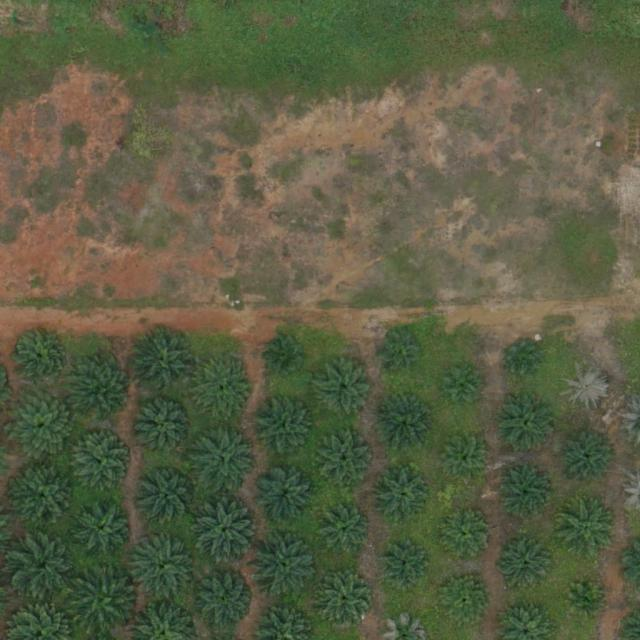Dead: (563, 364, 610, 412)
Healthy: (10, 462, 81, 533), (71, 565, 142, 636), (250, 531, 321, 602), (8, 392, 78, 463), (130, 327, 200, 398), (127, 533, 197, 604), (192, 496, 262, 567), (11, 534, 81, 604), (72, 362, 135, 425), (74, 499, 137, 562), (135, 399, 198, 462), (255, 464, 318, 527), (314, 358, 377, 421), (72, 430, 135, 492), (137, 465, 199, 528), (194, 360, 256, 423), (195, 426, 257, 489), (194, 569, 257, 631), (254, 396, 316, 459), (559, 427, 621, 490), (497, 394, 559, 456), (559, 499, 621, 561), (12, 329, 67, 384), (319, 435, 374, 490), (317, 506, 372, 561), (319, 575, 374, 630), (378, 399, 433, 454), (376, 470, 431, 525), (440, 511, 495, 566), (438, 575, 493, 630), (499, 539, 554, 594), (500, 467, 554, 522), (382, 544, 429, 591)
Small: (442, 439, 489, 486), (382, 334, 422, 374), (443, 363, 482, 403), (268, 335, 307, 375), (503, 339, 542, 378), (568, 583, 607, 622)
